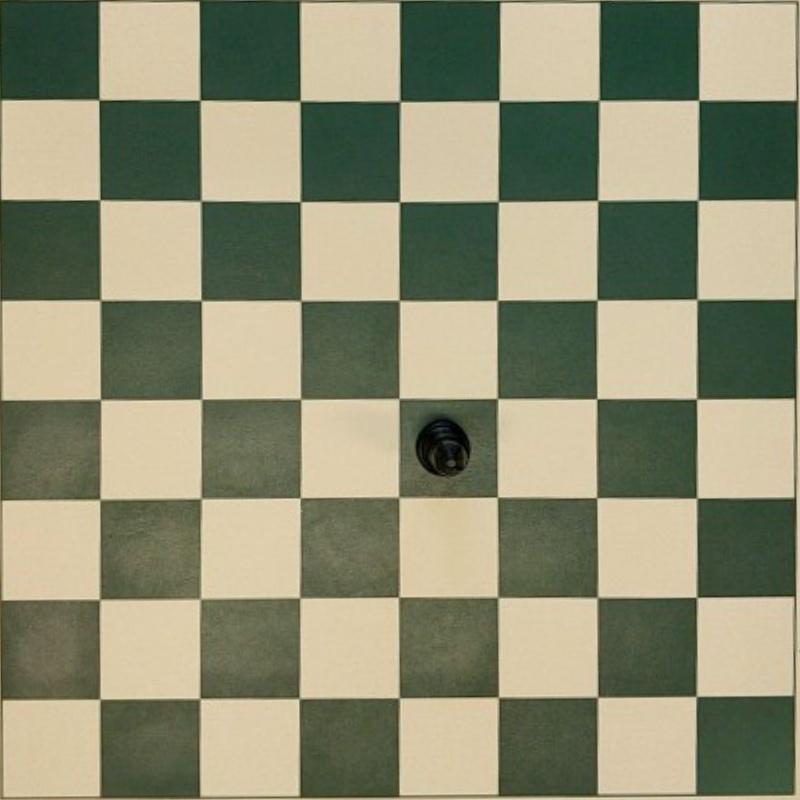black-bishop: (415, 416, 472, 477)
